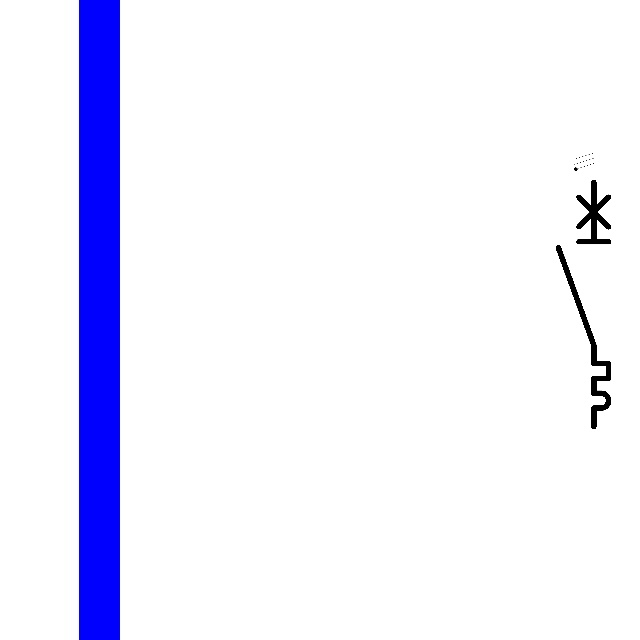interruptor_termomagnetico: (552, 176, 615, 433)
